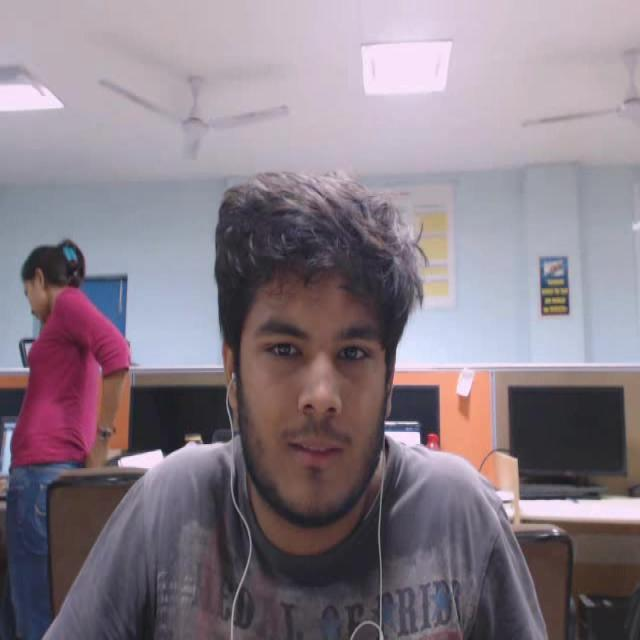Engaged: (193, 141, 444, 543)
